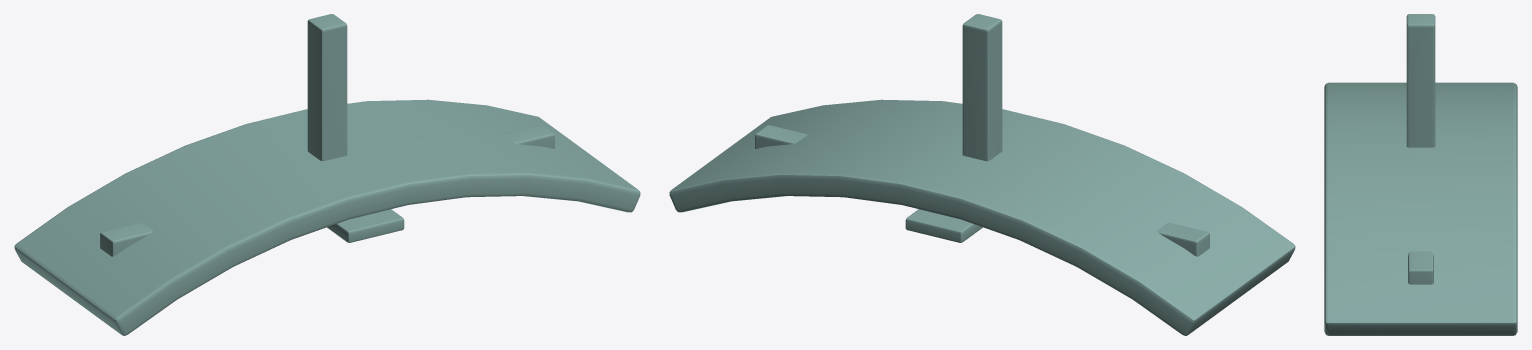
Rendered from Bridge05.fbx.
3 views of the same model, side by side, from view 1: azimuth 30°, elevation 25°; view 2: azimuth 150°, elevation 25°; view 3: azimuth 270°, elevation 25° (orthographic). The views are drawn at different scales.
Parts seen in each view (by area): view 1: pCube47, pCube43, pCube44, pCube45; view 2: pCube47, pCube43, pCube44, pCube45; view 3: pCube47, pCube43, pCube44.
Part boxes in pixels (x1=…): pCube47: x1=14, y1=99, x2=640, y2=335; pCube43: x1=307, y1=14, x2=347, y2=161; pCube44: x1=100, y1=125, x2=554, y2=256; pCube45: x1=327, y1=209, x2=404, y2=242; pCube47: x1=669, y1=99, x2=1295, y2=335; pCube43: x1=962, y1=14, x2=1002, y2=161; pCube44: x1=755, y1=125, x2=1209, y2=256; pCube45: x1=905, y1=209, x2=982, y2=242; pCube47: x1=1324, y1=82, x2=1517, y2=335; pCube43: x1=1406, y1=14, x2=1435, y2=147; pCube44: x1=1408, y1=251, x2=1433, y2=284.
Bounding box in the file's own units: 748 × 294 × 256.
